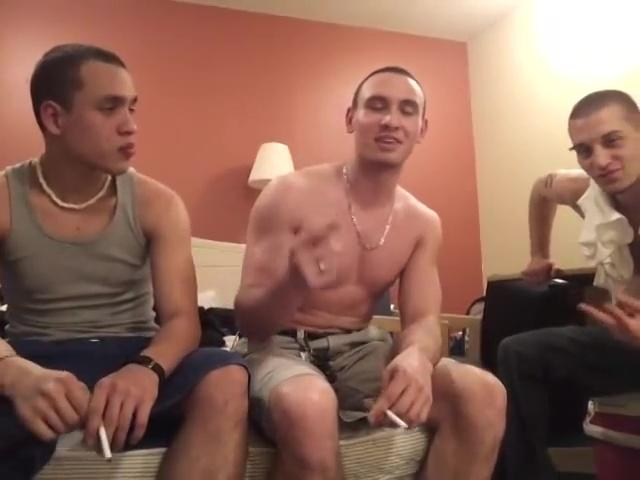cigarette: (95, 418, 115, 464), (383, 407, 413, 432)
